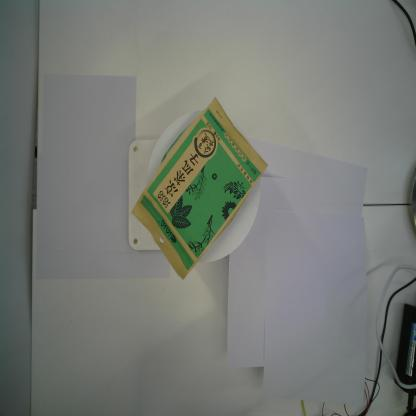Dried Food: (131, 97, 269, 281)
